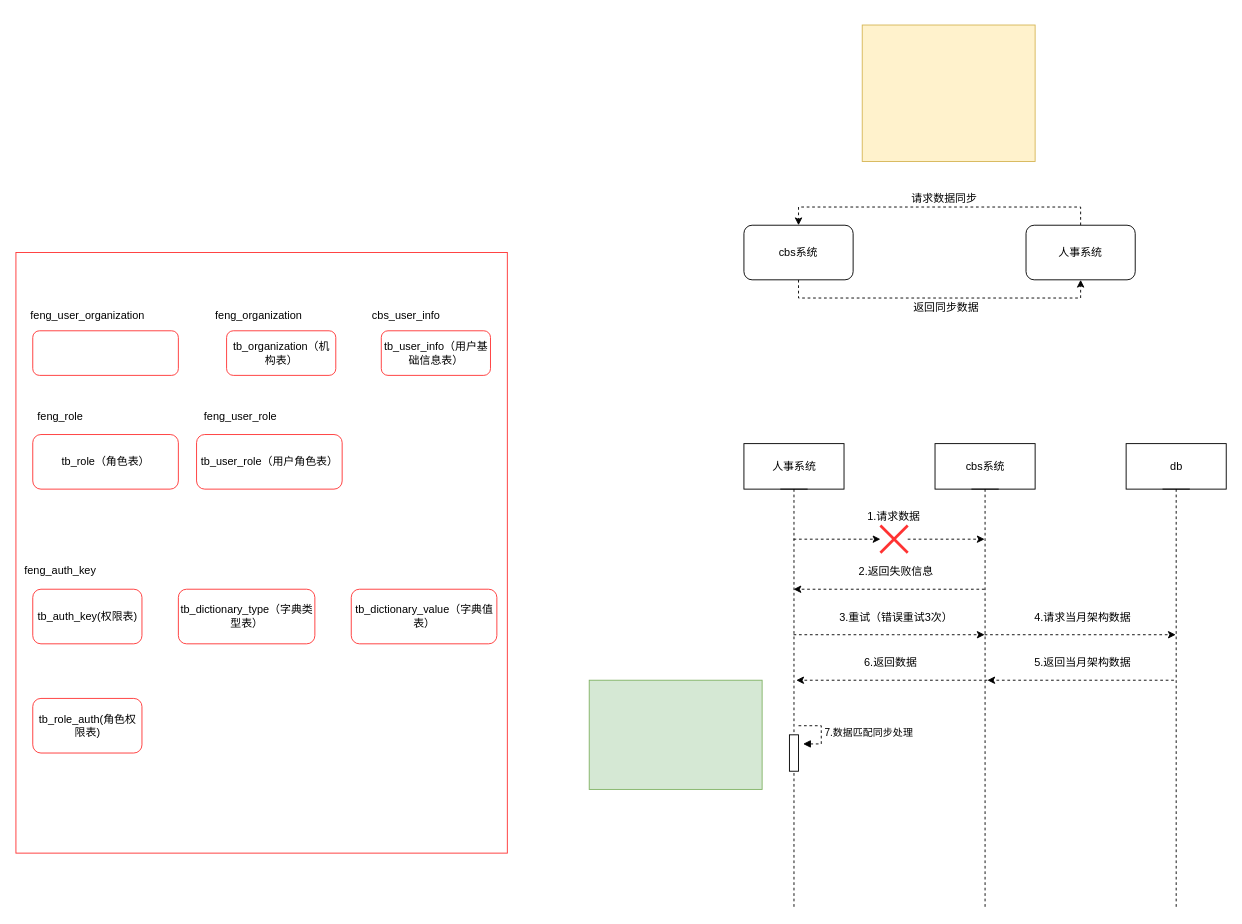
Image size: 1242x924. Some labels were removed from this diagram. Here are the shapes that lost their labels. From the top down, the centre of each, then its label:
the point at 948,93: 定时同步 1.每月cbs修改组织架构前同步 问题： 1.如何匹配数据？ 2.同步失败如何处理？
the point at 105,352: tb_user_organization（用户机构表）
the point at 894,539: 失败
the point at 675,734: 匹配方案 1.创建自增ID 2.增加oId关联字段，同步以此ID作为匹配对象
